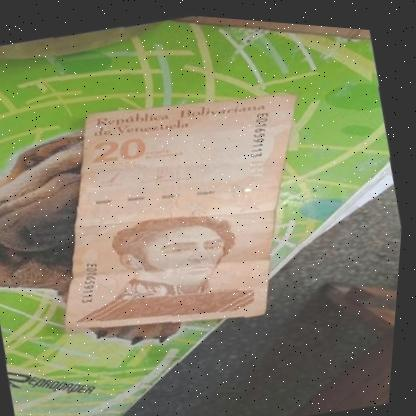twenty-front-vef: (18, 55, 354, 362)
